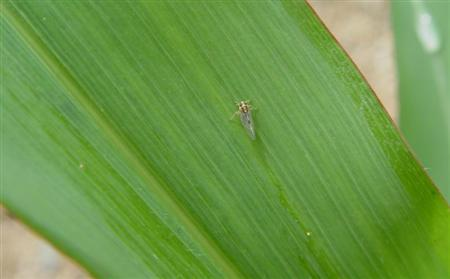Delphacidae: (229, 99, 259, 141)
